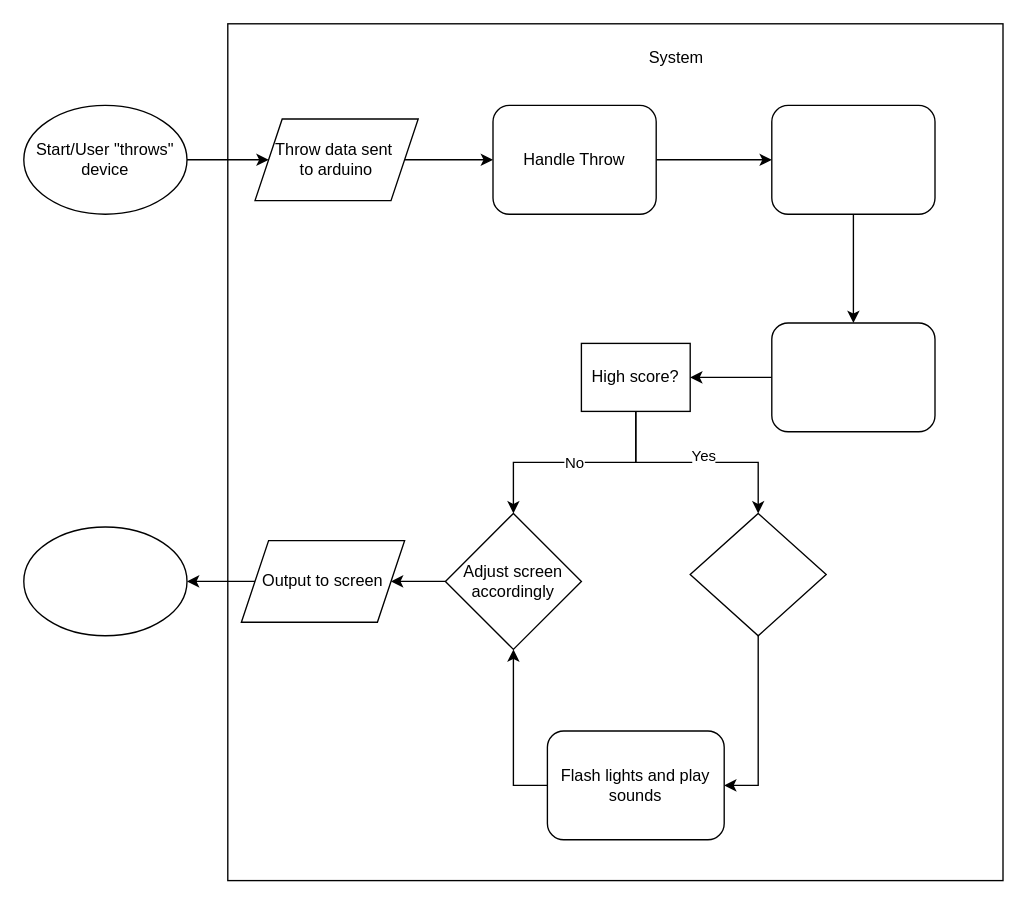
Some shapes in this 1027 by 904 pixel diagram are drawn without their labels. The centre of each missing label's shape, as x and y in pixels:
"Calculate Force" goes at (852,159).
"Display force" goes at (852,377).
"Display new high score" goes at (757,574).
"End" goes at (104,581).
